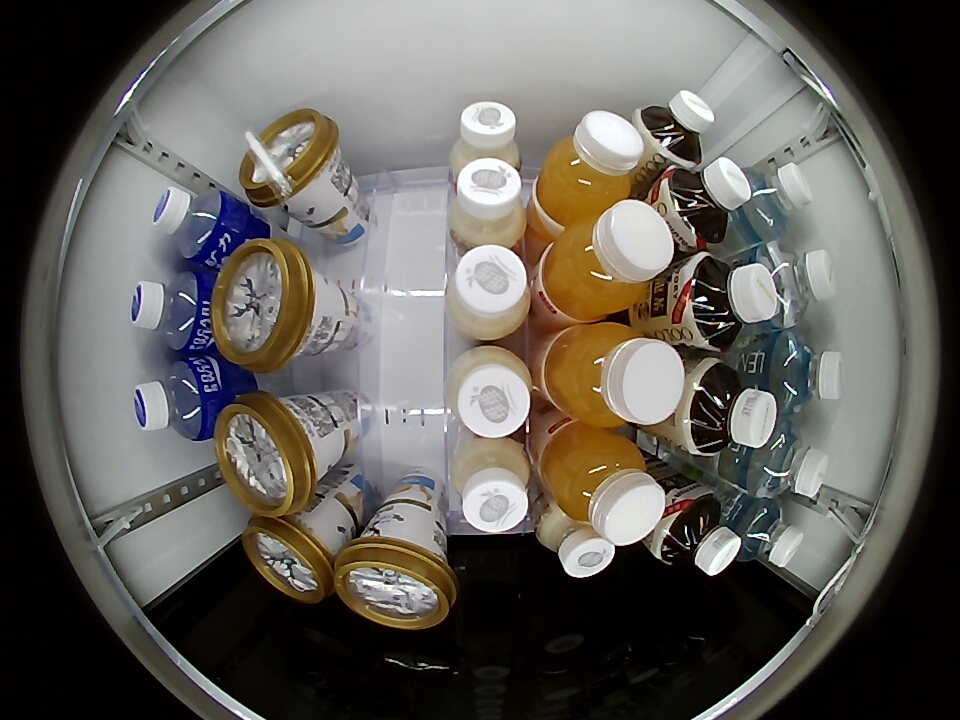baokuangli: (132, 357, 219, 441), (129, 270, 213, 353), (152, 186, 237, 265)
lujiaoxiang: (211, 238, 324, 371), (214, 392, 324, 516), (334, 529, 458, 629), (241, 109, 342, 209), (243, 514, 338, 604)
qinningshui: (755, 243, 836, 328), (746, 423, 829, 499), (768, 331, 844, 412), (739, 162, 813, 239), (734, 499, 803, 567)
weic: (538, 199, 674, 321), (541, 425, 666, 544), (542, 323, 684, 427), (534, 110, 646, 229)
weiweidounai: (447, 244, 531, 341), (448, 346, 533, 439), (450, 439, 533, 534), (449, 158, 527, 249), (537, 507, 616, 578), (450, 101, 521, 174)
wulongcha: (676, 253, 781, 351), (681, 359, 778, 456), (657, 157, 752, 249), (652, 484, 741, 577), (638, 90, 715, 167)
